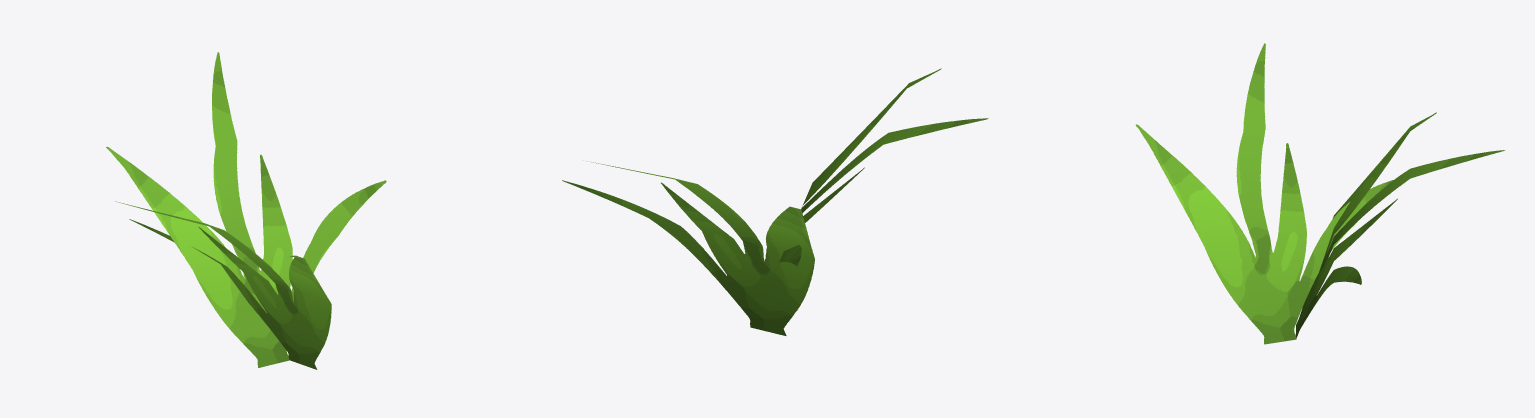
File: Grass 01_preview_3DS_simplified.glb
3 renders of one model, left to right at view 1: azimuth 30°, elevation 25°; view 2: azimuth 150°, elevation 25°; view 3: azimuth 270°, elevation 25°, orthographic. The views are drawn at different scales.
Visible parts, largest first — view 1: Marine Park Empire model; view 2: Marine Park Empire model; view 3: Marine Park Empire model.
Part boxes in pixels (x1,y1,x2,y2): Marine Park Empire model: (106,52,386,369); Marine Park Empire model: (562,68,988,335); Marine Park Empire model: (1136,43,1504,344).
Bounding box in the file's own units: 49.88 × 28.36 × 53.35.
Materials: 1 (1 with a texture image).
